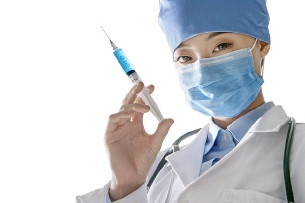Mask: (172, 30, 261, 118)
